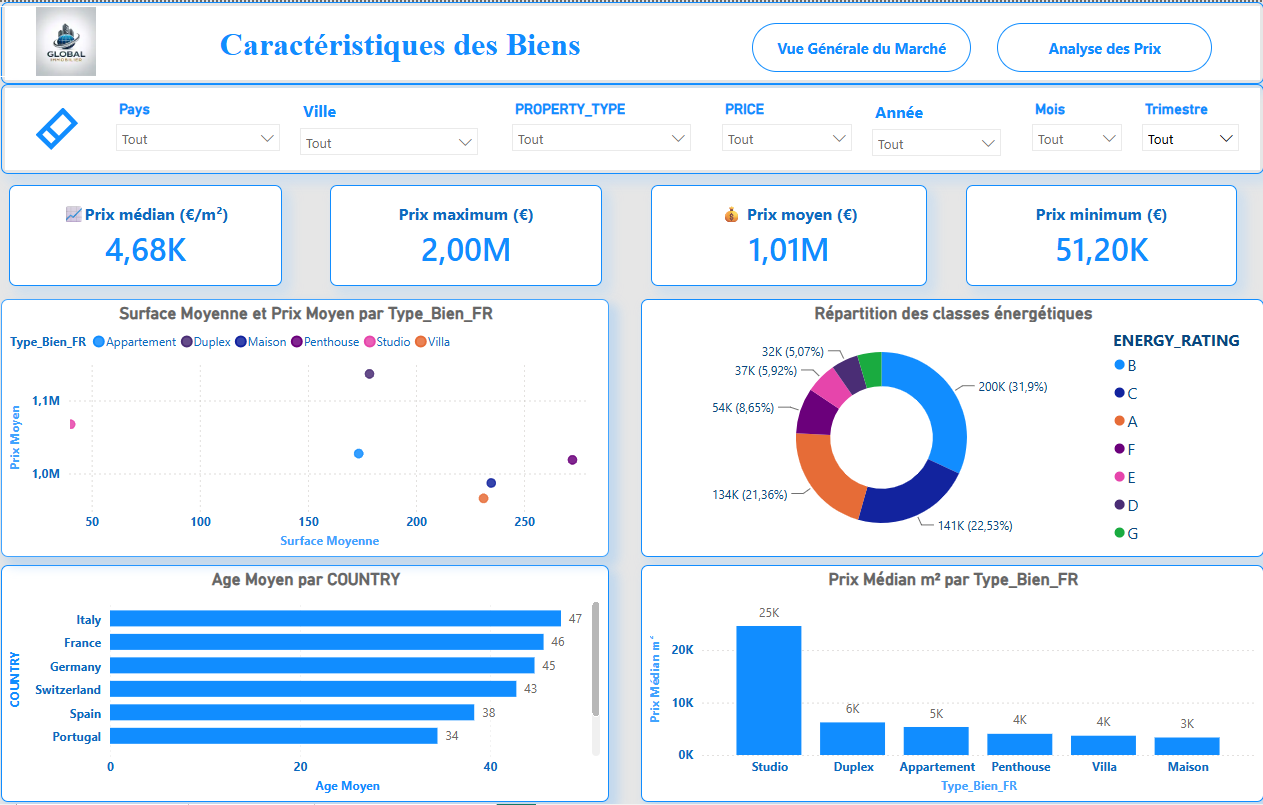

Layout of this report page (visuals, bound fields, positions):
{"tool":"powerbi","page":{"name":"Caractéristiques des Biens","canvas":[1280,810],"ordinal":2},"visuals":[{"type":"shape","box":[10,0,1263,82],"z":0},{"type":"shape","box":[10,82,1263,90],"z":1000},{"type":"textbox","box":[100,19,618,51],"z":2000},{"type":"actionButton","box":[761,21,219,49],"z":3000},{"type":"actionButton","box":[1006,21,215,49],"z":4000},{"type":"image","box":[0,3.9,149.6,70.9],"z":5000},{"type":"cardVisual","fields":{"Data":["FACT_LISTING.Prix maximum (€)"]},"box":[339,183,272,101],"z":6000},{"type":"cardVisual","fields":{"Data":["FACT_LISTING.Prix Moyen"]},"box":[660,183,276,101],"z":7000},{"type":"cardVisual","fields":{"Data":["FACT_LISTING.Prix minimum (€)"]},"box":[975,183,271,101],"z":8000},{"type":"donutChart","title":"Répartition des classes énergétiques","fields":{"Y":["FACT_LISTING.Nb Annonces"],"Category":["DIM_PROPERTY.ENERGY_RATING"]},"box":[650,297,623,258],"z":9000},{"type":"slicer","fields":{"Values":["DIM_LOCATION.COUNTRY"]},"box":[115,94,184,68],"z":10000},{"type":"slicer","fields":{"Values":["DIM_PROPERTY.PROPERTY_TYPE"]},"box":[511,94,199,68],"z":11000},{"type":"slicer","fields":{"Values":["DIM_LOCATION.CITY"]},"box":[299,93,198,68],"z":12000},{"type":"slicer","fields":{"Values":["DIM_DATE.MONTH"]},"box":[1031,94,110,68],"z":13000},{"type":"slicer","fields":{"Values":["DIM_DATE.YEAR"]},"box":[871,94,149,68],"z":14000},{"type":"slicer","fields":{"Values":["DIM_DATE.QUARTER"]},"box":[1141,94,117,68],"z":15000},{"type":"slicer","fields":{"Values":["FACT_LISTING.PRICE"]},"box":[721,94,150,68],"z":16000},{"type":"cardVisual","fields":{"Data":["FACT_LISTING.Prix Médian m²"]},"box":[18,183,273,101],"z":17000},{"type":"clusteredColumnChart","fields":{"Y":["FACT_LISTING.Prix Médian m²"],"Category":["DIM_PROPERTY.Type_Bien_FR"]},"box":[650,563,623,237],"z":18000},{"type":"barChart","fields":{"Category":["DIM_LOCATION.COUNTRY"],"Y":["FACT_LISTING.Age Moyen"]},"box":[10,563,608,237],"z":19000},{"type":"actionButton","box":[32,102,68,50],"z":20000},{"type":"scatterChart","fields":{"Series":["DIM_PROPERTY.Type_Bien_FR"],"Y":["FACT_LISTING.Prix Moyen"],"X":["FACT_LISTING.Surface Moyenne"]},"box":[10,297,608,258],"z":21000}]}

Visuals, with their boxes in screenshot pixels (x1, y1, x2, y2), scaled from the page's 1280x810 canvas onto the 1263x805 screenshot:
shape: pyautogui.locateOnScreen(10, 0, 1256, 81)
shape: pyautogui.locateOnScreen(10, 81, 1256, 171)
textbox: pyautogui.locateOnScreen(99, 19, 708, 70)
actionButton: pyautogui.locateOnScreen(751, 21, 967, 70)
actionButton: pyautogui.locateOnScreen(993, 21, 1205, 70)
image: pyautogui.locateOnScreen(0, 4, 148, 74)
cardVisual - FACT_LISTING.Prix maximum (€): pyautogui.locateOnScreen(334, 182, 603, 282)
cardVisual - FACT_LISTING.Prix Moyen: pyautogui.locateOnScreen(651, 182, 924, 282)
cardVisual - FACT_LISTING.Prix minimum (€): pyautogui.locateOnScreen(962, 182, 1229, 282)
"Répartition des classes énergétiques" donutChart: pyautogui.locateOnScreen(641, 295, 1256, 552)
slicer - DIM_LOCATION.COUNTRY: pyautogui.locateOnScreen(113, 93, 295, 161)
slicer - DIM_PROPERTY.PROPERTY_TYPE: pyautogui.locateOnScreen(504, 93, 701, 161)
slicer - DIM_LOCATION.CITY: pyautogui.locateOnScreen(295, 92, 490, 160)
slicer - DIM_DATE.MONTH: pyautogui.locateOnScreen(1017, 93, 1126, 161)
slicer - DIM_DATE.YEAR: pyautogui.locateOnScreen(859, 93, 1006, 161)
slicer - DIM_DATE.QUARTER: pyautogui.locateOnScreen(1126, 93, 1241, 161)
slicer - FACT_LISTING.PRICE: pyautogui.locateOnScreen(711, 93, 859, 161)
cardVisual - FACT_LISTING.Prix Médian m²: pyautogui.locateOnScreen(18, 182, 287, 282)
clusteredColumnChart - FACT_LISTING.Prix Médian m² x DIM_PROPERTY.Type_Bien_FR: pyautogui.locateOnScreen(641, 560, 1256, 795)
barChart - DIM_LOCATION.COUNTRY x FACT_LISTING.Age Moyen: pyautogui.locateOnScreen(10, 560, 610, 795)
actionButton: pyautogui.locateOnScreen(32, 101, 99, 151)
scatterChart - DIM_PROPERTY.Type_Bien_FR x FACT_LISTING.Prix Moyen: pyautogui.locateOnScreen(10, 295, 610, 552)
